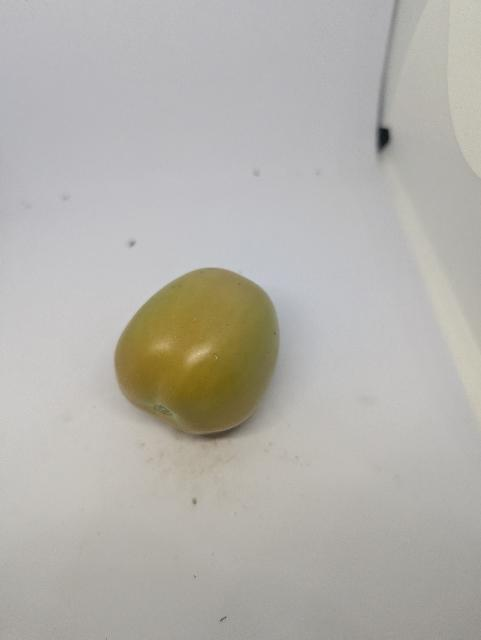breaker: (115, 268, 280, 434)
